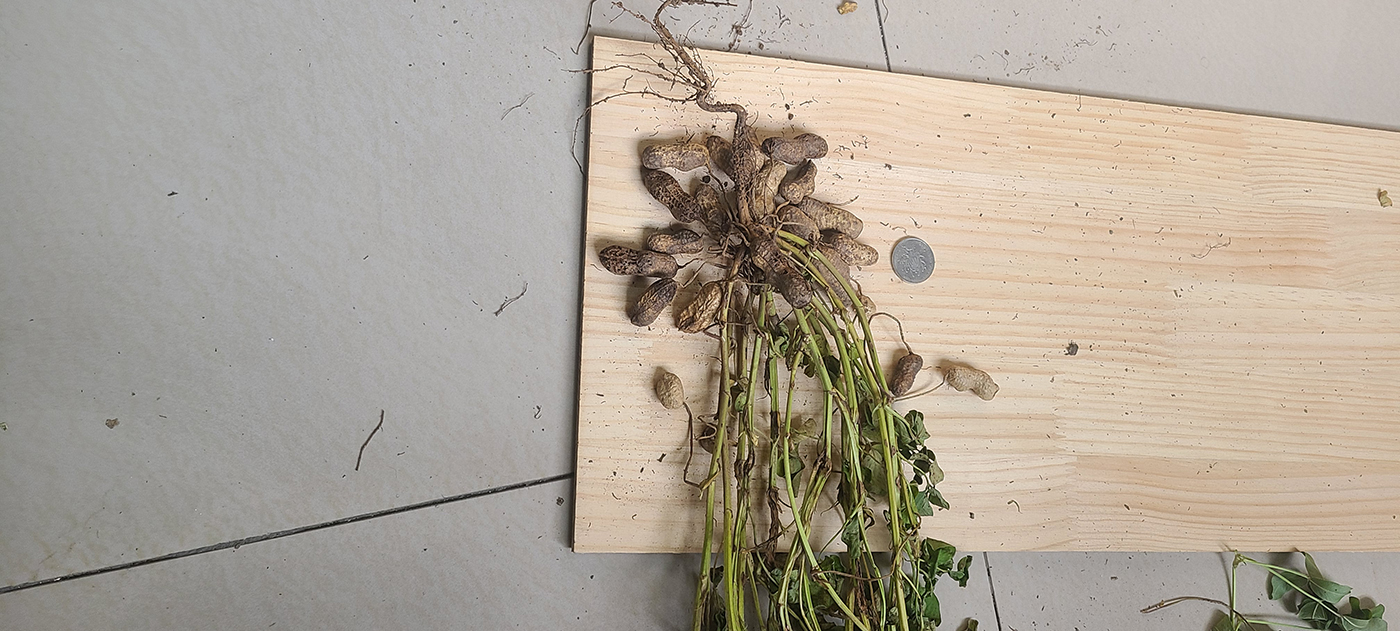h: (946, 365, 999, 401), (756, 160, 784, 207), (655, 372, 684, 410)
l: (751, 234, 813, 306), (643, 170, 700, 221), (601, 244, 678, 276), (819, 246, 857, 309), (678, 281, 724, 333), (630, 278, 677, 328), (804, 196, 861, 234), (706, 134, 752, 180), (640, 140, 709, 170), (765, 134, 829, 163), (833, 232, 879, 268), (781, 205, 823, 242), (695, 184, 728, 230), (891, 353, 923, 398), (786, 159, 817, 203), (649, 229, 704, 253)
